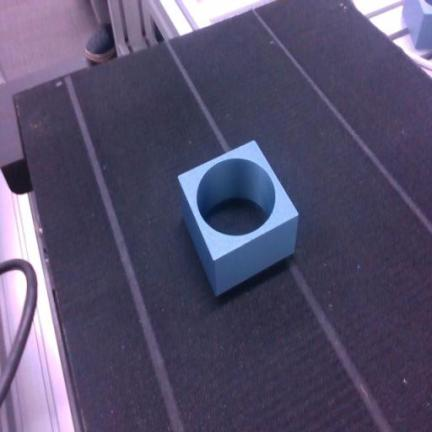square: (179, 141, 297, 295)
